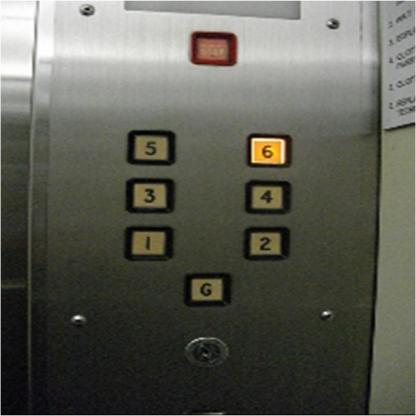1: (122, 224, 174, 260)
2: (242, 226, 292, 260)
3: (124, 176, 175, 214)
4: (243, 178, 291, 214)
5: (126, 128, 176, 165)
6: (246, 132, 294, 168)
G: (182, 271, 231, 306)
keyhole: (182, 335, 229, 366)
text_stop: (189, 30, 237, 66)
